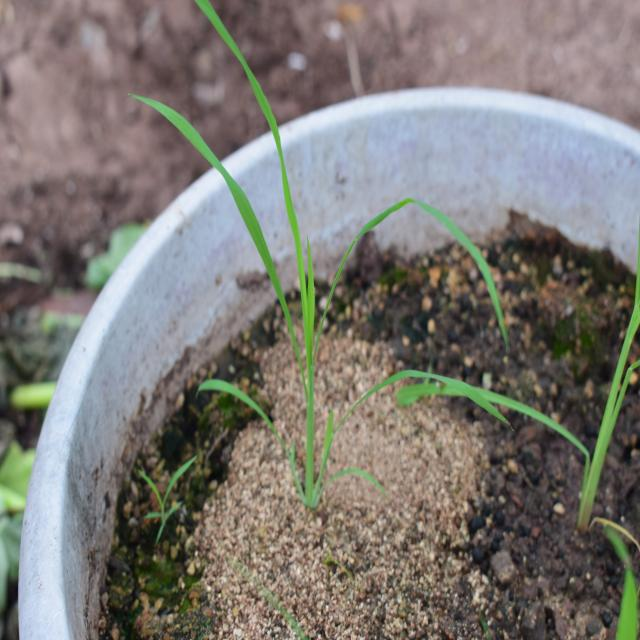barnyard_grass: (153, 18, 477, 529)
